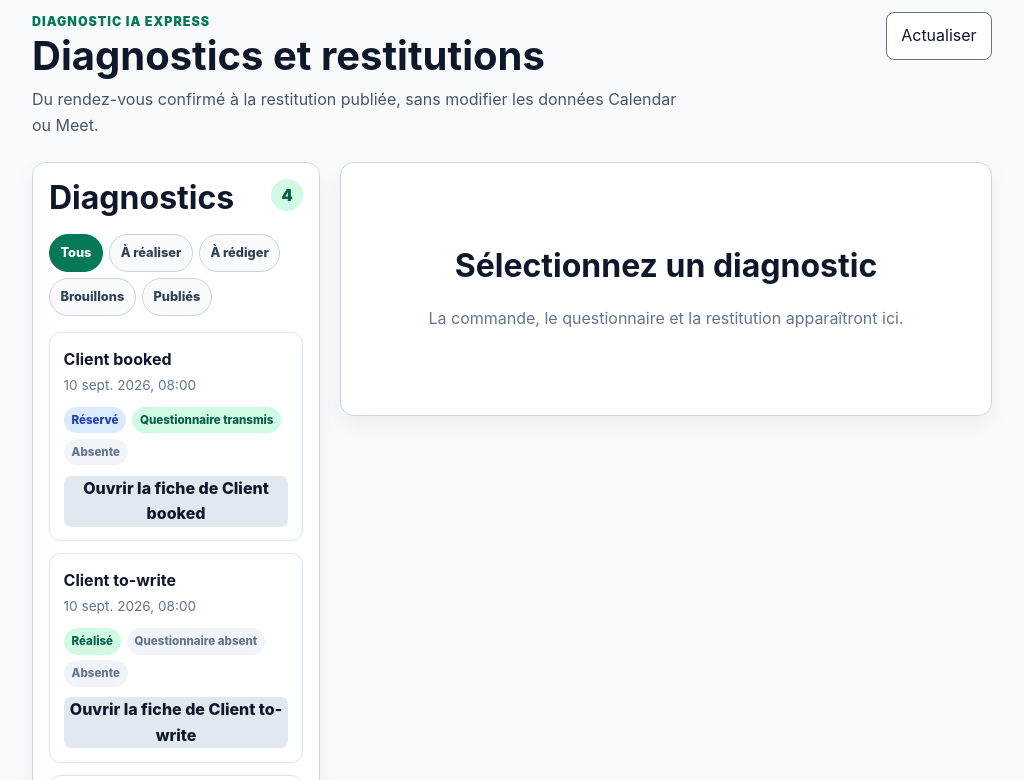
Test: administration des Diagnostics IA et restitutions › propose le déplacement uniquement pour un booking réservé
Click the button "Ouvrir la fiche de Client booked" at x=176, y=501, box [64, 476, 288, 527]
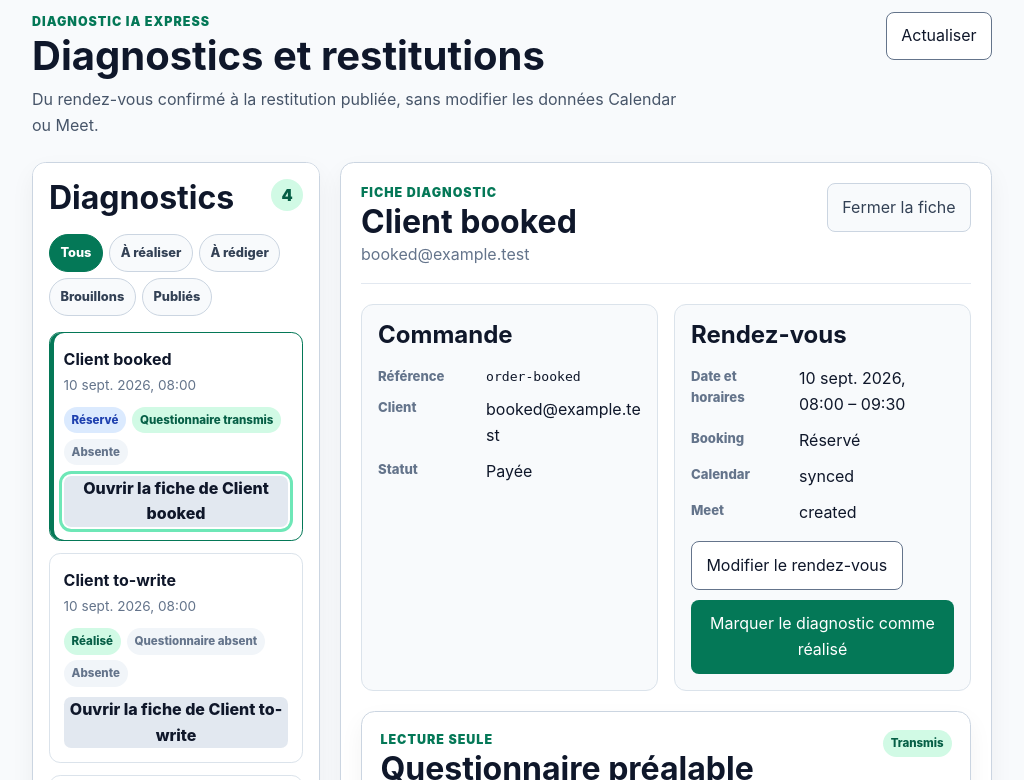
Expected: the heading "Client booked" is shown, [361, 203, 577, 242]
Expected: the button "Modifier le rendez-vous" is shown, [691, 541, 903, 590]
Click the button "Ouvrir la fiche de Client to-write" at x=176, y=723, box [64, 697, 288, 748]
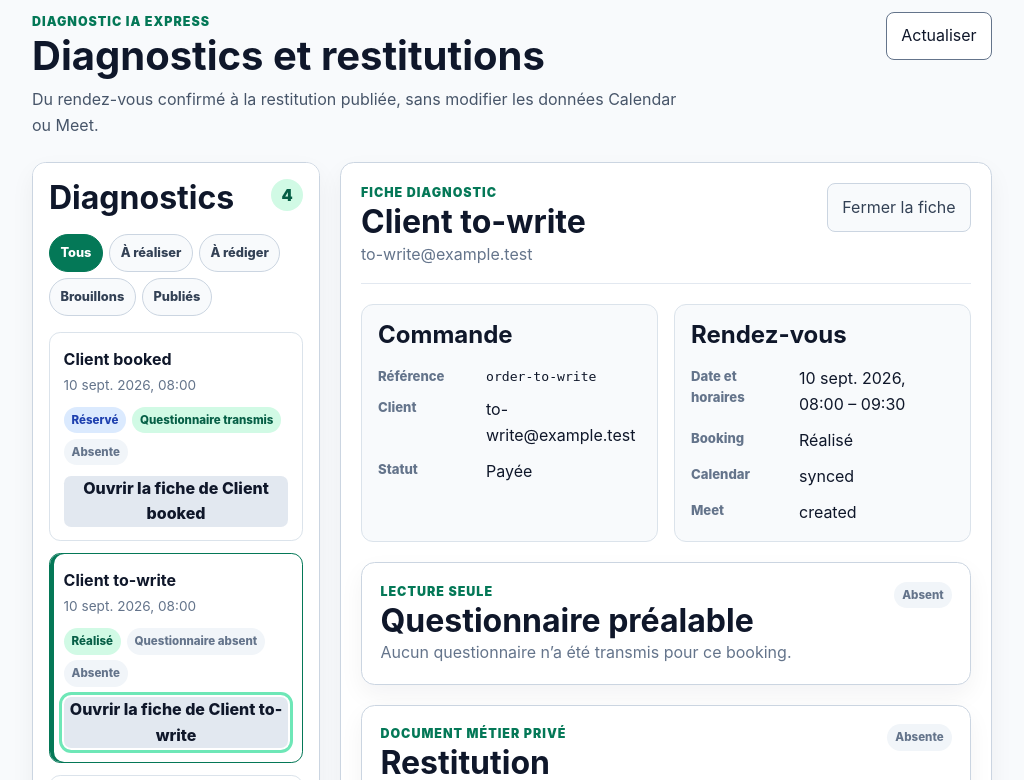
Expected: the button "Modifier le rendez-vous" is gone
